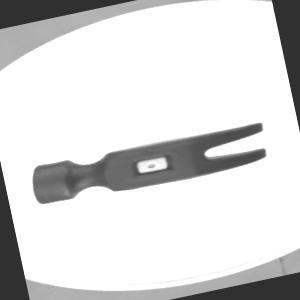martelo: (25, 110, 271, 212)
